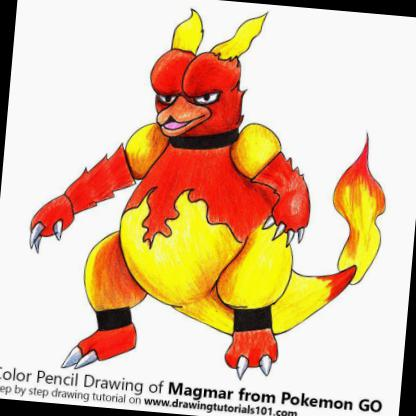Magmar: (0, 18, 415, 415)
